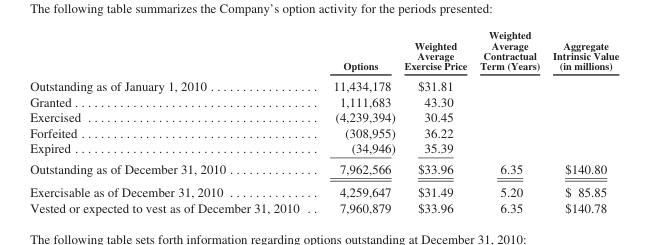table: (29, 28, 618, 214)
table column: (29, 28, 315, 214), (315, 28, 399, 214), (399, 28, 472, 214), (472, 28, 545, 214), (545, 28, 618, 214)
table column header: (29, 28, 618, 75)
table row: (29, 28, 618, 75), (29, 158, 618, 179), (29, 179, 618, 199), (29, 139, 618, 158), (29, 75, 618, 93), (29, 108, 618, 124), (29, 93, 618, 108), (29, 124, 618, 139), (29, 199, 618, 214)
